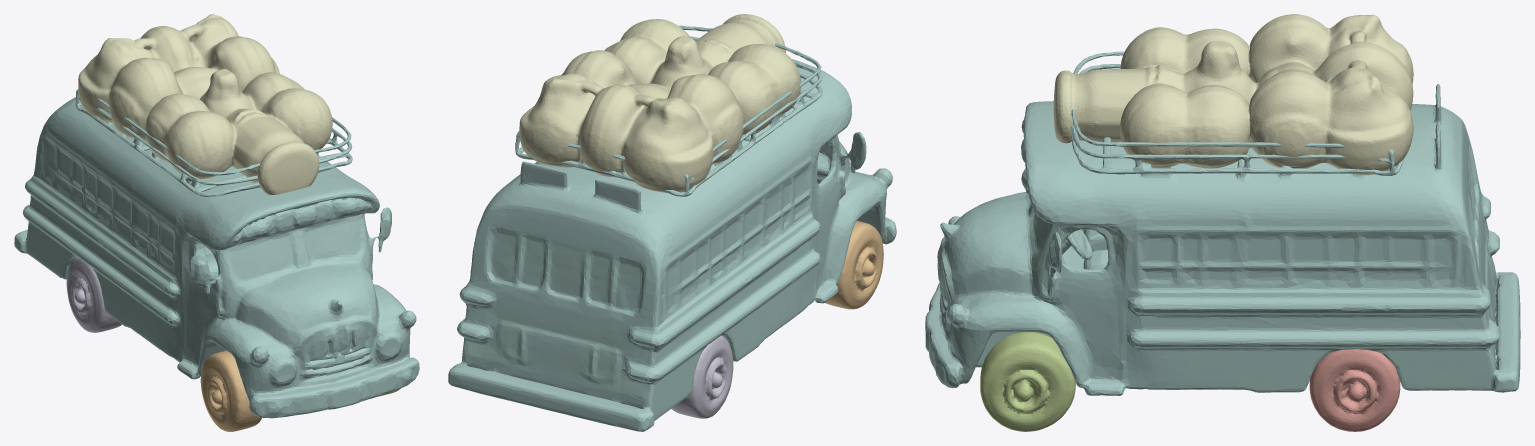
The model's file is color_bus.glb.
3 renders of one model, left to right at view 1: azimuth 30°, elevation 25°; view 2: azimuth 150°, elevation 25°; view 3: azimuth 270°, elevation 25°, orthographic. The views are drawn at different scales.
Parts seen in each view (by area): view 1: color_bus_0.obj, color_bus_0.obj_1, color_bus_0.obj_5, color_bus_0.obj_2; view 2: color_bus_0.obj, color_bus_0.obj_1, color_bus_0.obj_5, color_bus_0.obj_2; view 3: color_bus_0.obj, color_bus_0.obj_1, color_bus_0.obj_6, color_bus_0.obj_3.
Part boxes in pixels (bbox=[...]): color_bus_0.obj: bbox=[14, 89, 419, 418]; color_bus_0.obj_1: bbox=[78, 14, 332, 194]; color_bus_0.obj_5: bbox=[200, 350, 261, 431]; color_bus_0.obj_2: bbox=[66, 257, 121, 332]; color_bus_0.obj: bbox=[448, 25, 896, 431]; color_bus_0.obj_1: bbox=[519, 14, 800, 192]; color_bus_0.obj_5: bbox=[825, 221, 883, 309]; color_bus_0.obj_2: bbox=[671, 335, 733, 418]; color_bus_0.obj: bbox=[925, 51, 1520, 395]; color_bus_0.obj_1: bbox=[1053, 14, 1413, 175]; color_bus_0.obj_6: bbox=[980, 332, 1075, 431]; color_bus_0.obj_3: bbox=[1309, 349, 1400, 431].
Bounding box in the file's own units: 0.8038 × 1.07 × 1.7.
